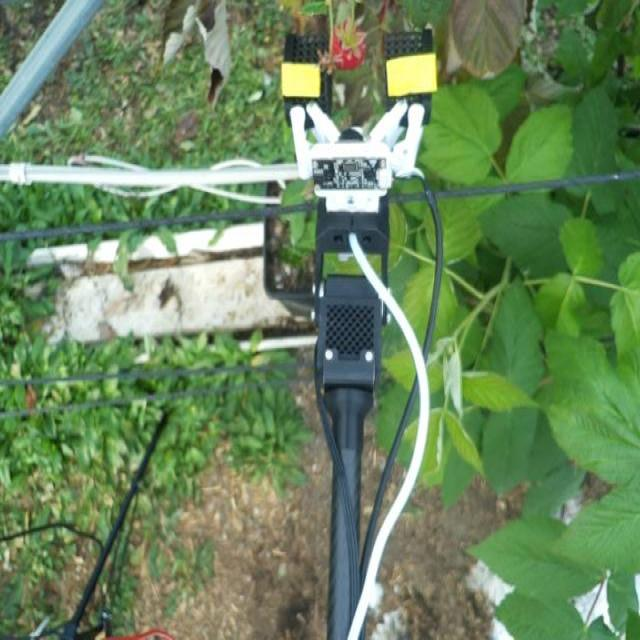Riped berries: (326, 16, 368, 73)
